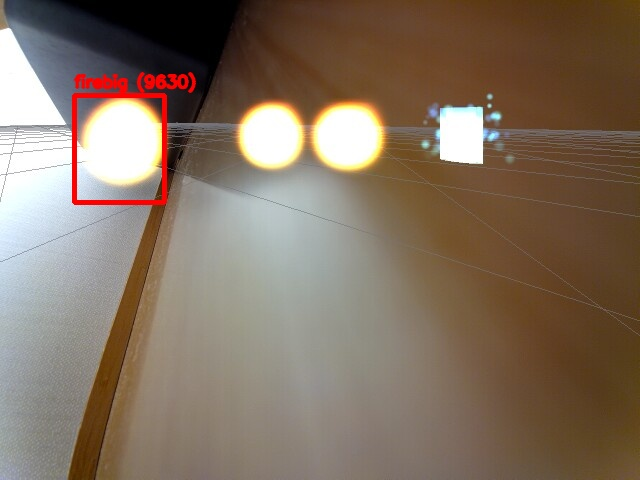firebig: (74, 95, 164, 202)
